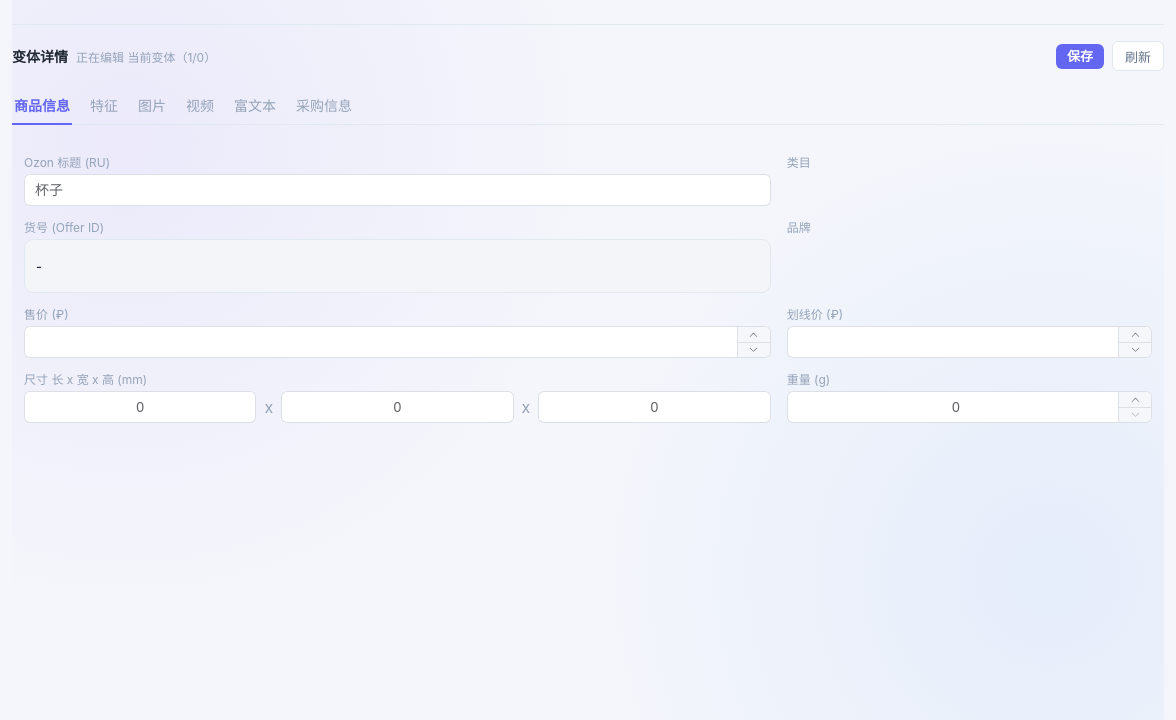
Test: DetailTabs › 切到特征 tab 显示 AttributesTab
What coordinates should you click on to do the following:
click the button with class "s-tabs__item" showing "特征"
I would click on:
 (104, 106)
Its box is [88,87,120,125].
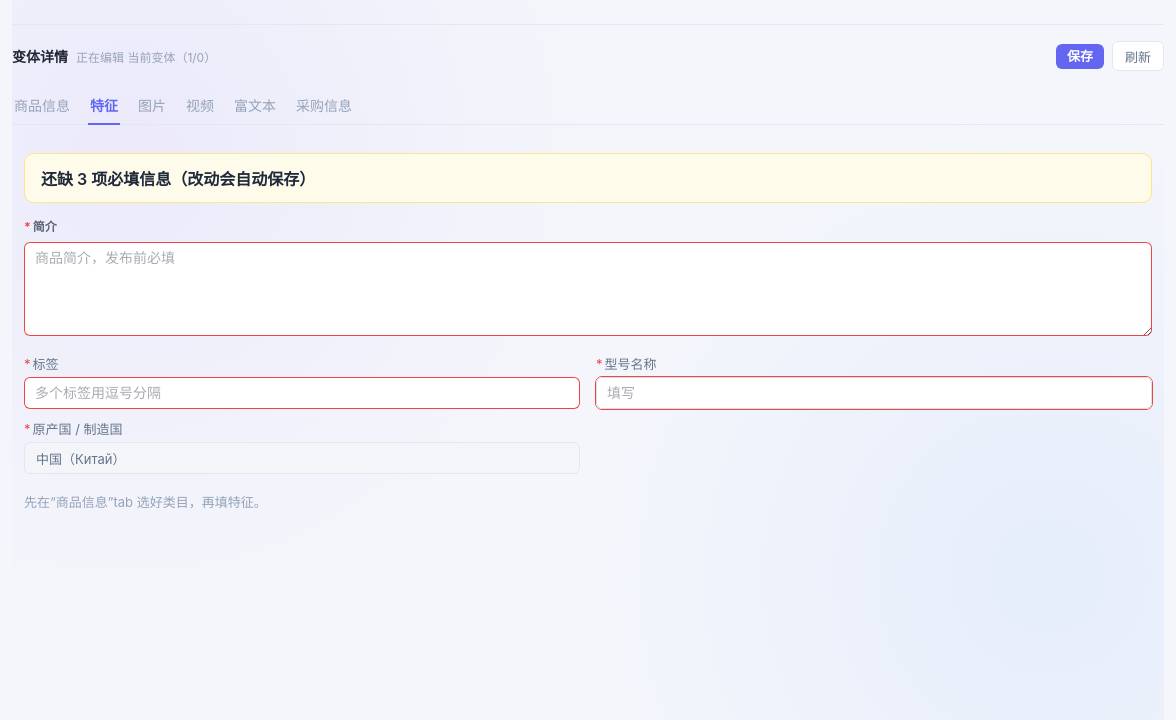
Now the element with class "attrs-tab" is shown, box [12,141,1164,523]
